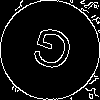G: (25, 25, 77, 81)
